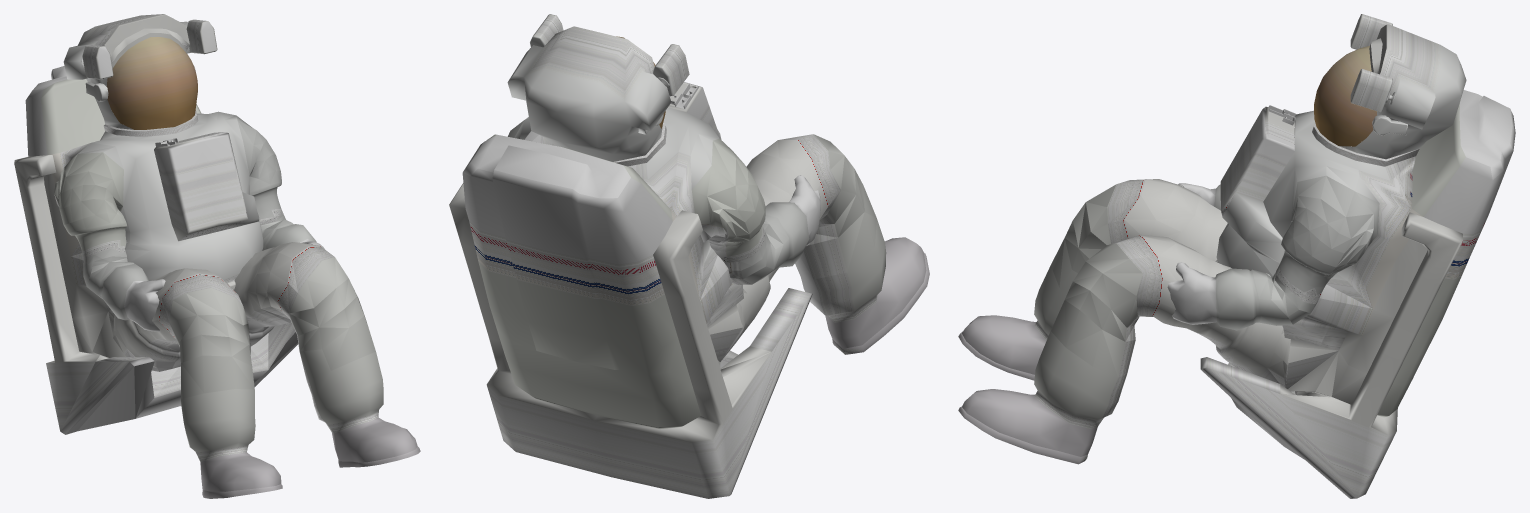
The model's file is astronaut-seated.glb.
3 views of the same model, side by side, from view 1: azimuth 30°, elevation 25°; view 2: azimuth 150°, elevation 25°; view 3: azimuth 270°, elevation 25° (orthographic). The views are drawn at different scales.
Parts seen in each view (by area): view 1: astronaut1; view 2: astronaut1; view 3: astronaut1.
Boxes of the visible parts, x1,y1,x2,y2 form: astronaut1: [14, 14, 420, 498]; astronaut1: [449, 14, 929, 498]; astronaut1: [958, 14, 1515, 498].
Size of the model in its own units: 0.726 by 1.26 by 1.53.
2 materials, 2 textured.
